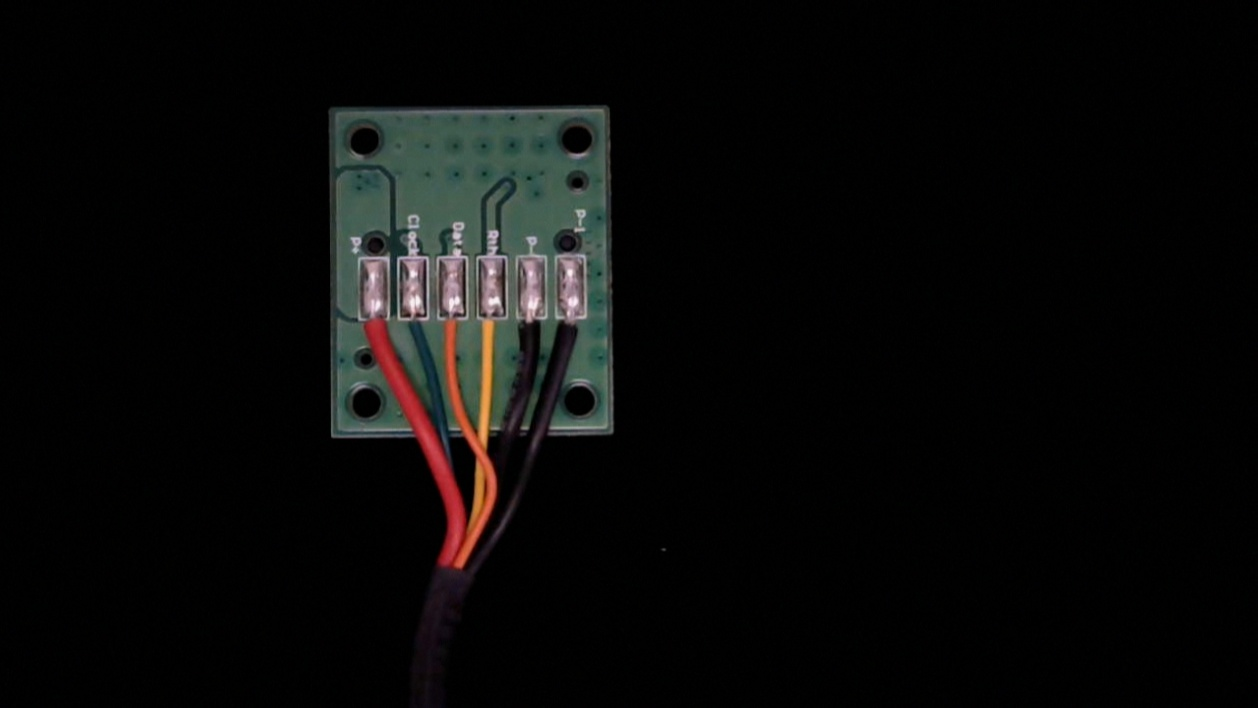Black: (517, 300, 548, 367)
Black1: (558, 300, 587, 360)
Green: (397, 301, 428, 362)
Orange: (438, 301, 467, 363)
Red: (360, 305, 392, 374)
Yellow: (479, 299, 507, 369)
